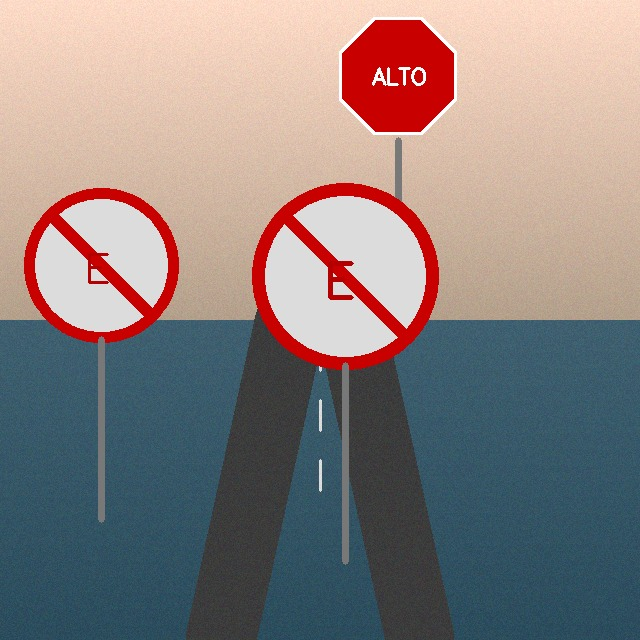alto: (334, 12, 462, 140)
no_estacionar: (256, 187, 434, 365), (27, 191, 175, 339)
